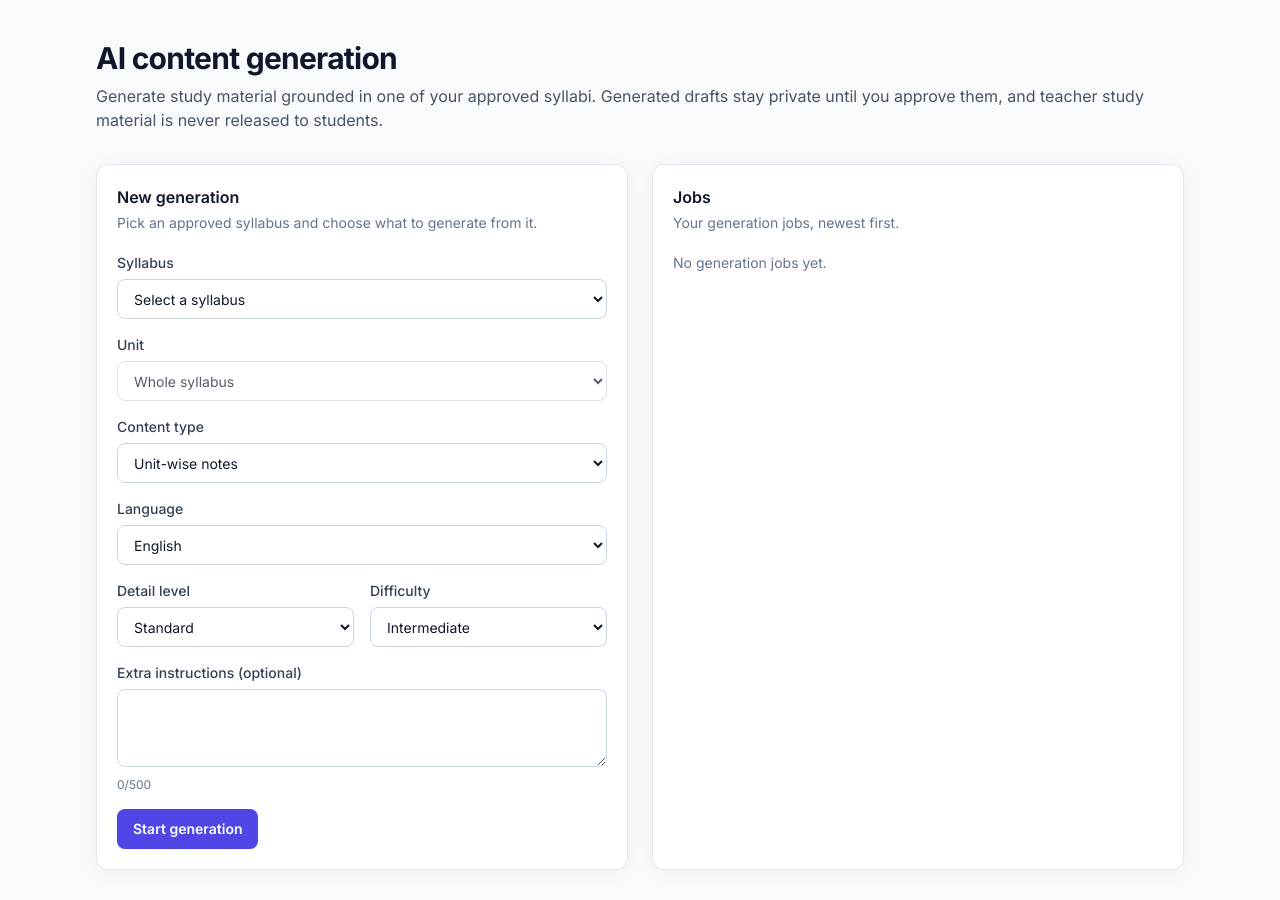
Test: TeacherContent › explains a rate limit and shows the daily quota hint
Select "CS101 · SEC-A (v2)" in the dropdown labelled "Syllabus" at (362, 299), box [117,279,607,319]
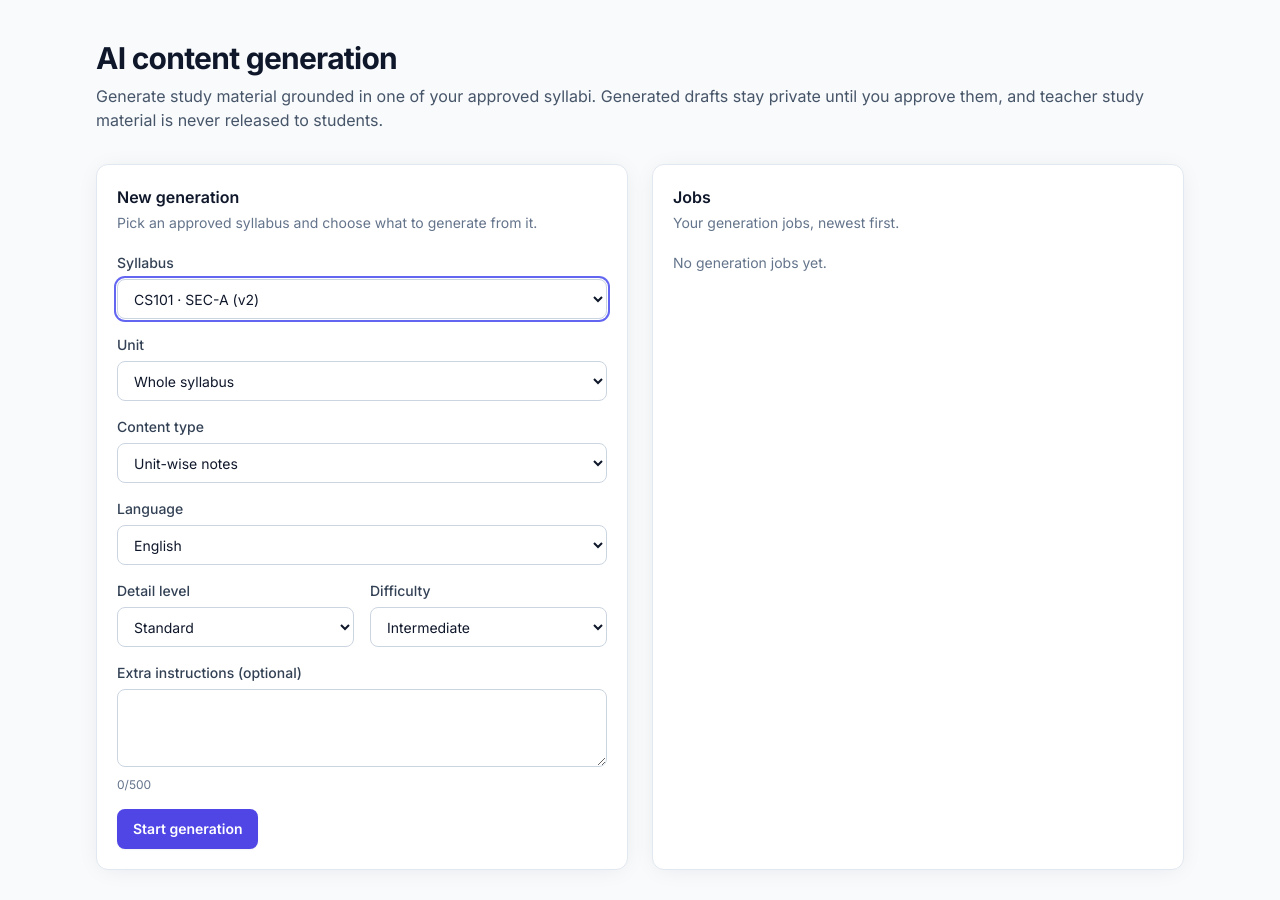
Click the button "Start generation".
click(188, 829)  # box [117,809,258,849]
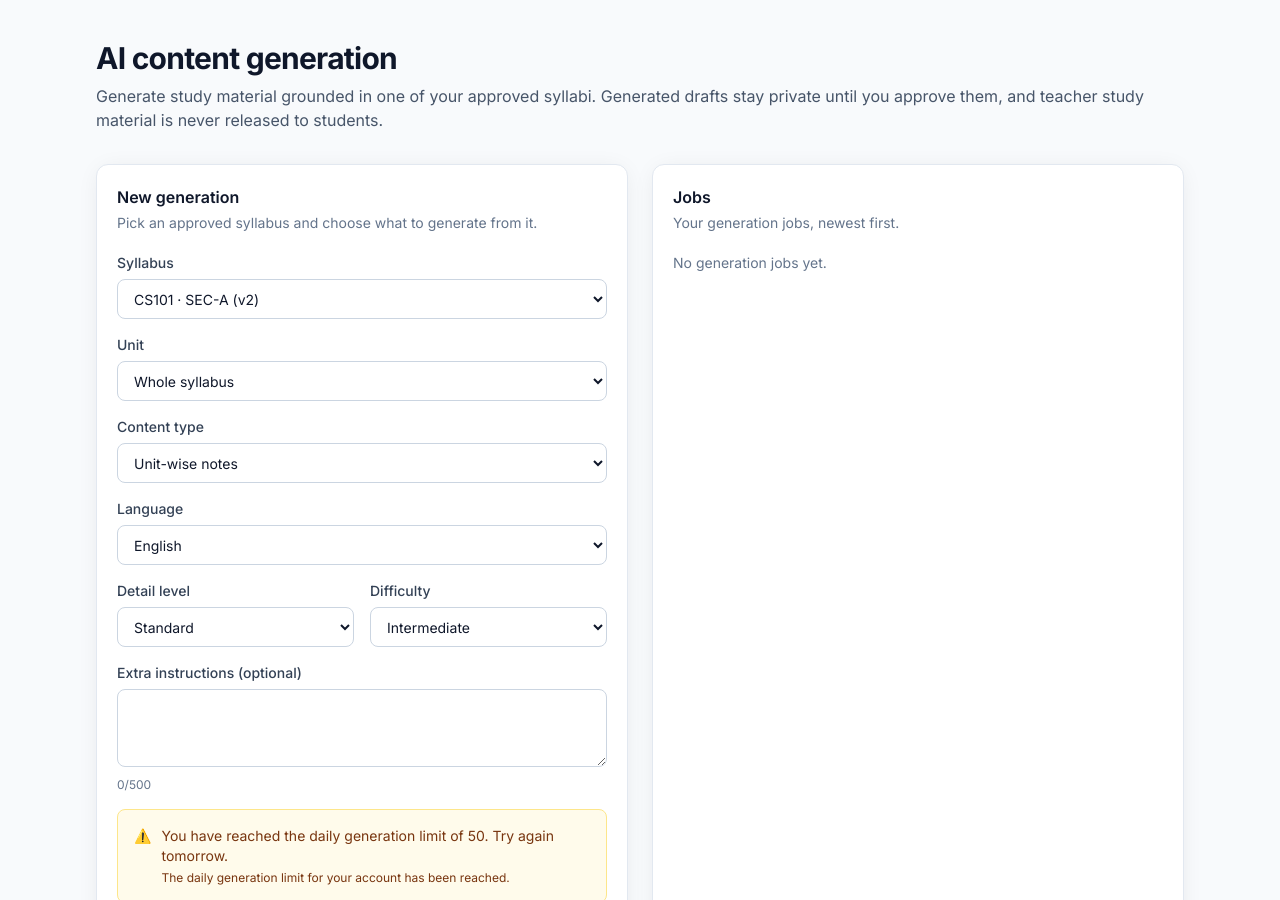
expect the text "daily generation limit" is shown: met, box [162,827,554,864]
expect the text "daily generation limit for your account" is shown: met, box [162,870,510,885]
